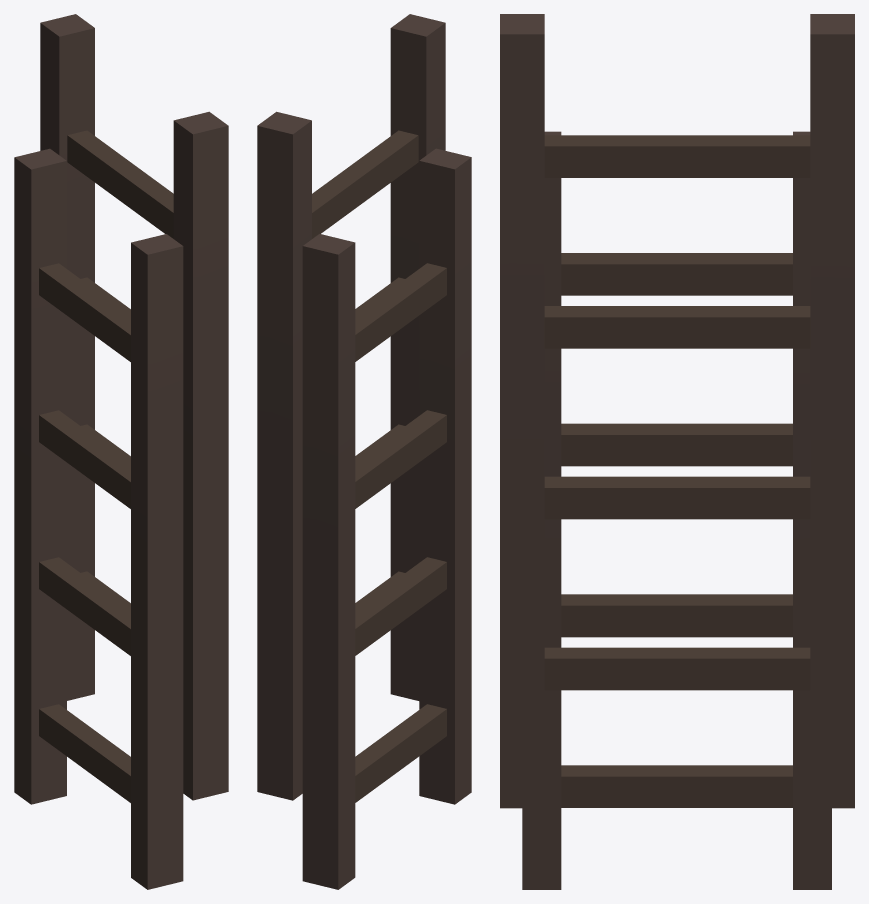
The model's file is FireEscape_A_4.fbx.
3 renders of one model, left to right at view 1: azimuth 30°, elevation 25°; view 2: azimuth 150°, elevation 25°; view 3: azimuth 270°, elevation 25°, orthographic. The views are drawn at different scales.
Parts seen in each view (by area): view 1: FireEscape_A_4; view 2: FireEscape_A_4; view 3: FireEscape_A_4.
Boxes of the visible parts, x1,y1,x2,y2 form: FireEscape_A_4: (14, 14, 228, 889); FireEscape_A_4: (257, 14, 471, 889); FireEscape_A_4: (500, 14, 854, 889).
Size of the model in its own units: 18.51 by 187 by 68.63.
